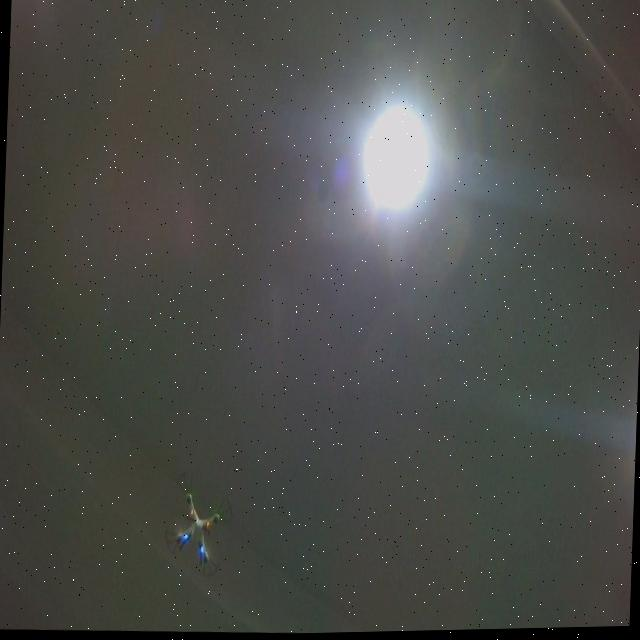drone: (160, 467, 237, 582)
